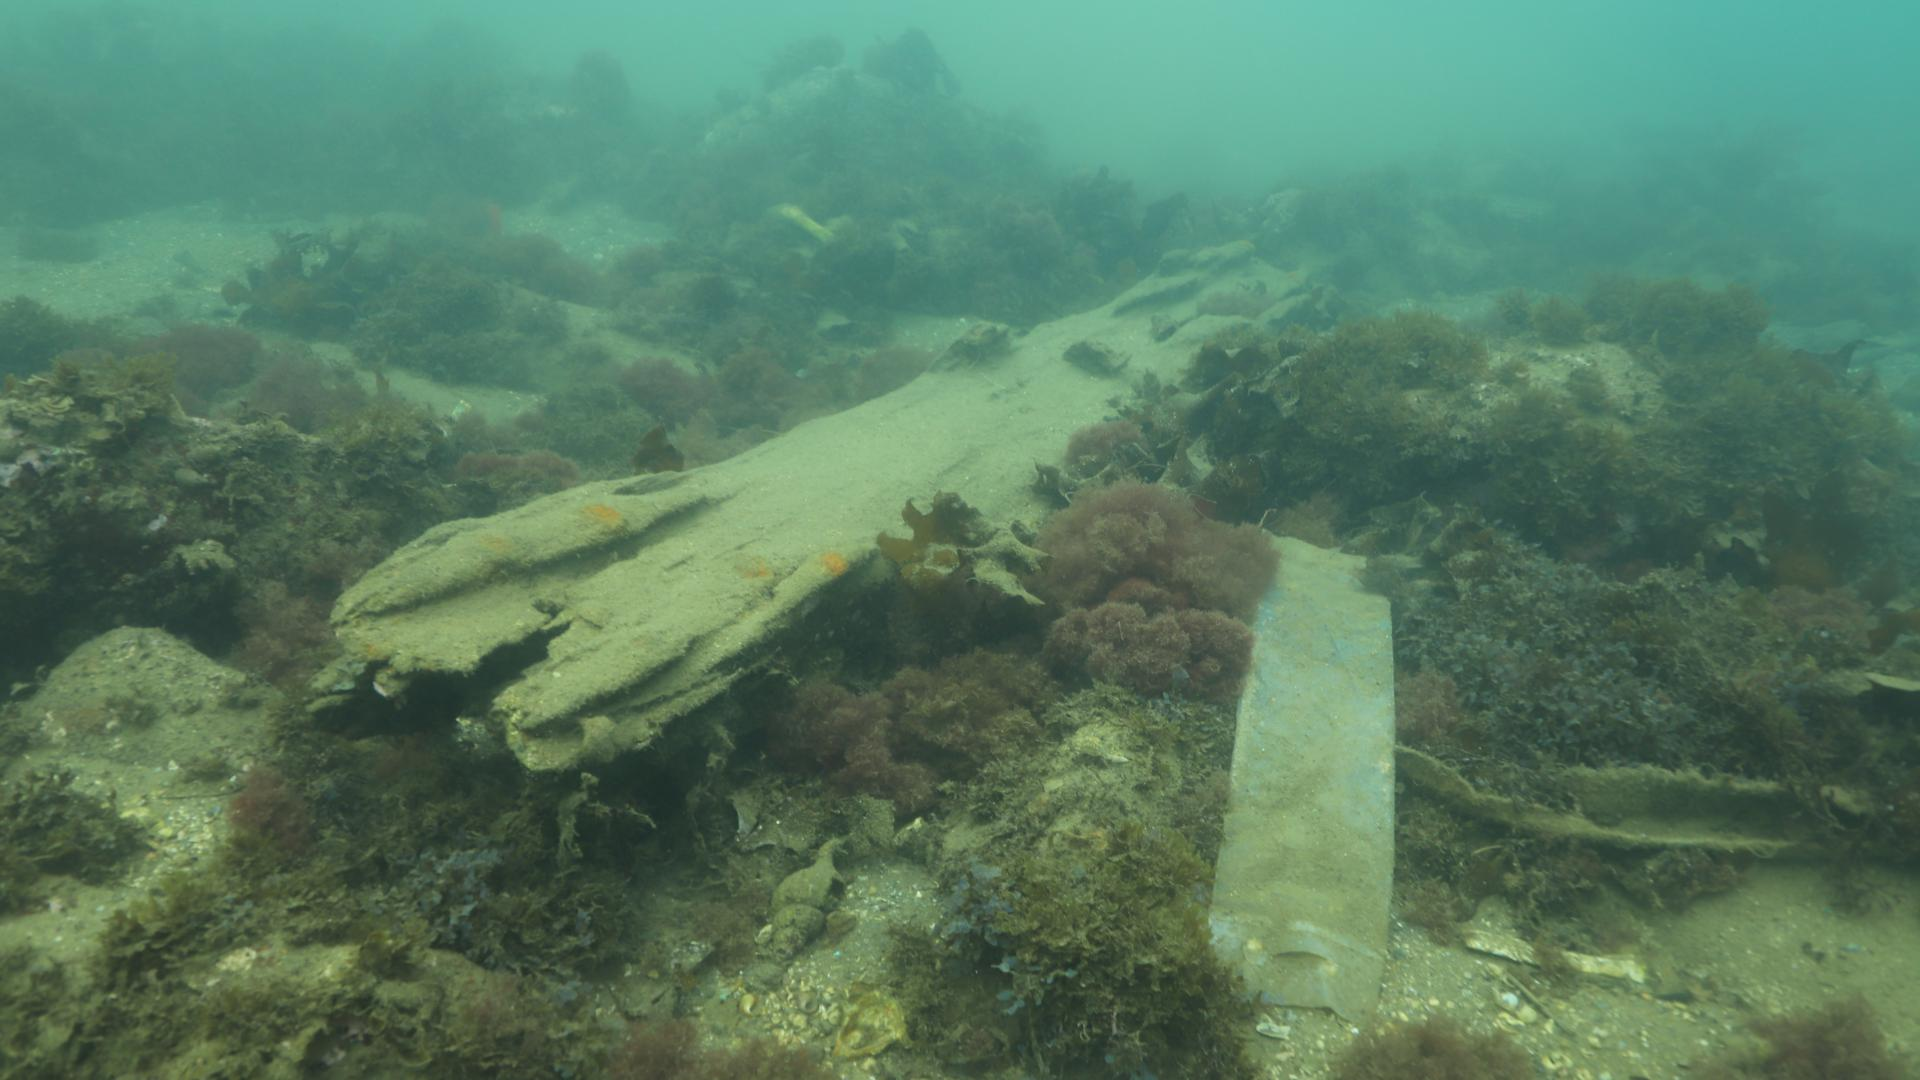wood: (301, 239, 1311, 783)
